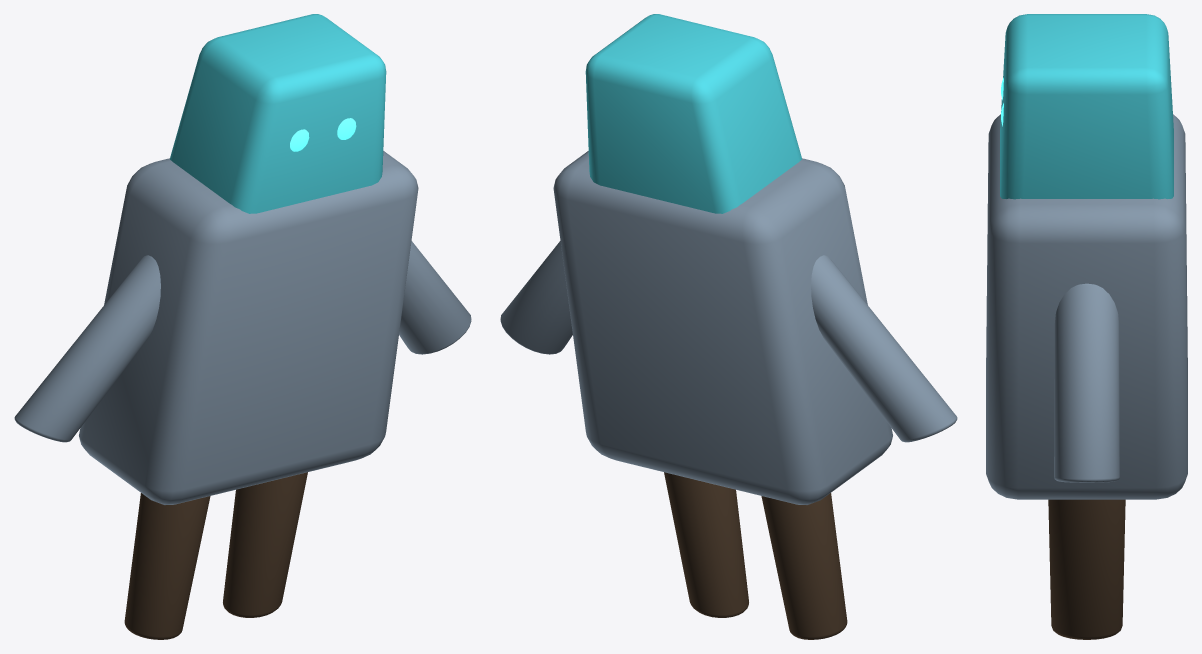
File: construct_v7.glb
The picture shows the model from 3 angles, left to right: view 1: azimuth 30°, elevation 25°; view 2: azimuth 150°, elevation 25°; view 3: azimuth 270°, elevation 25°; orthographic projection. The views are drawn at different scales.
Visible parts, largest first — view 1: BODY_PRIMARY, HEAD_ACCENT, ARM_L_PRIMARY, LEG_L_SECONDARY, LEG_R_SECONDARY, ARM_R_PRIMARY; view 2: BODY_PRIMARY, HEAD_ACCENT, ARM_L_PRIMARY, LEG_L_SECONDARY, LEG_R_SECONDARY, ARM_R_PRIMARY; view 3: BODY_PRIMARY, HEAD_ACCENT, ARM_R_PRIMARY, LEG_R_SECONDARY.
Boxes of the visible parts, x1=… form: BODY_PRIMARY: x1=79, y1=151, x2=418, y2=504; HEAD_ACCENT: x1=170, y1=14, x2=386, y2=213; ARM_L_PRIMARY: x1=14, y1=255, x2=160, y2=442; LEG_L_SECONDARY: x1=124, y1=493, x2=210, y2=639; LEG_R_SECONDARY: x1=223, y1=472, x2=307, y2=617; ARM_R_PRIMARY: x1=399, y1=241, x2=471, y2=354; BODY_PRIMARY: x1=553, y1=151, x2=892, y2=504; HEAD_ACCENT: x1=585, y1=14, x2=801, y2=213; ARM_L_PRIMARY: x1=811, y1=255, x2=957, y2=442; LEG_L_SECONDARY: x1=761, y1=493, x2=847, y2=639; LEG_R_SECONDARY: x1=664, y1=472, x2=748, y2=617; ARM_R_PRIMARY: x1=500, y1=241, x2=572, y2=354; BODY_PRIMARY: x1=986, y1=114, x2=1187, y2=499; HEAD_ACCENT: x1=1000, y1=14, x2=1173, y2=199; ARM_R_PRIMARY: x1=1054, y1=283, x2=1119, y2=482; LEG_R_SECONDARY: x1=1048, y1=499, x2=1125, y2=639.
Size of the model in its own units: 2.31 by 2.7 by 0.803.
